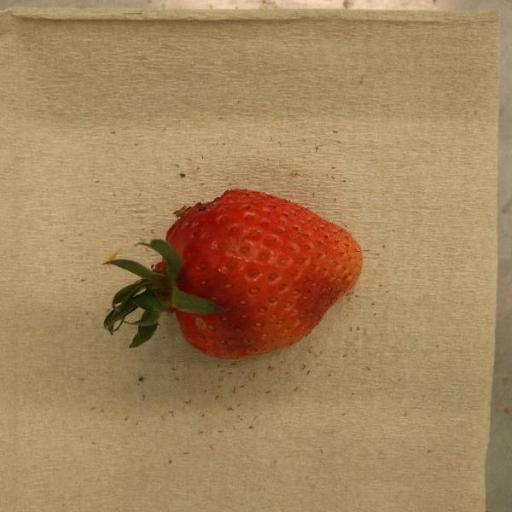Strawberry: (102, 190, 362, 360)
